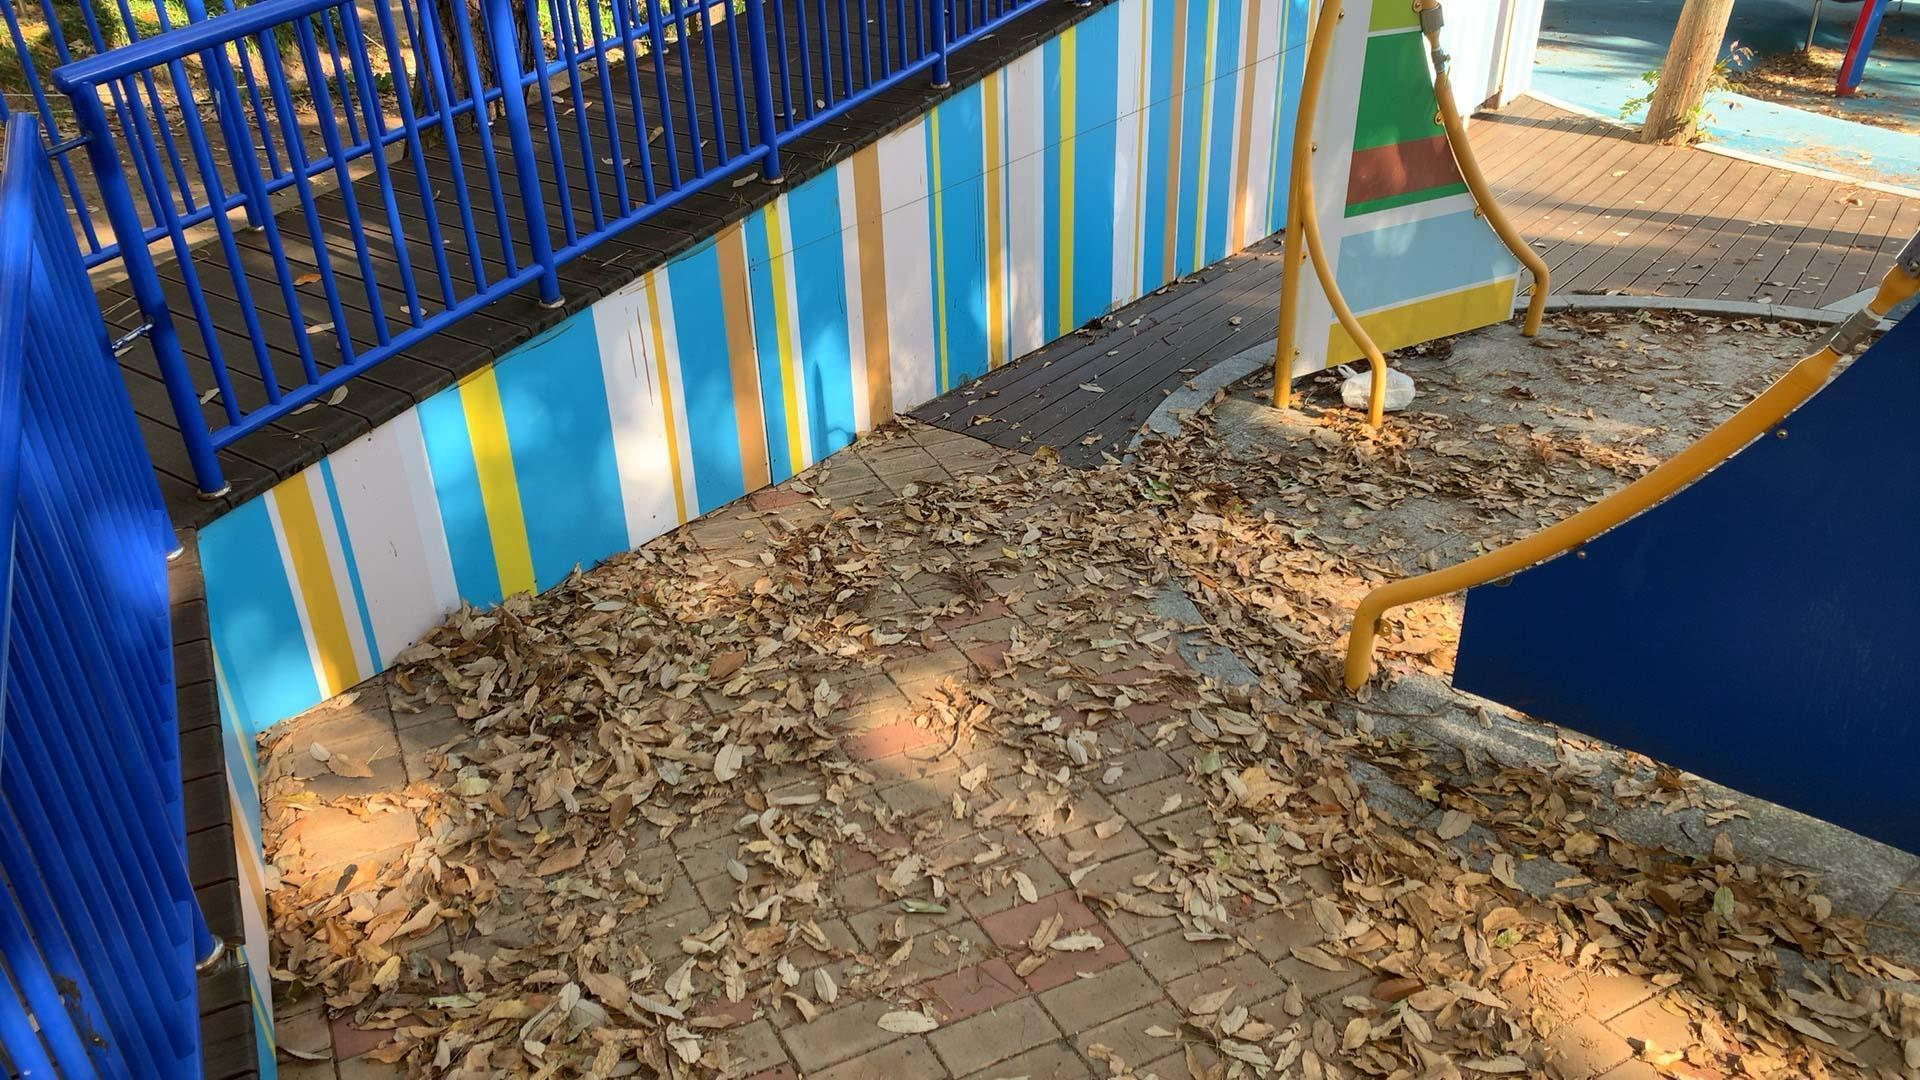white_bag: (1332, 359, 1418, 414)
